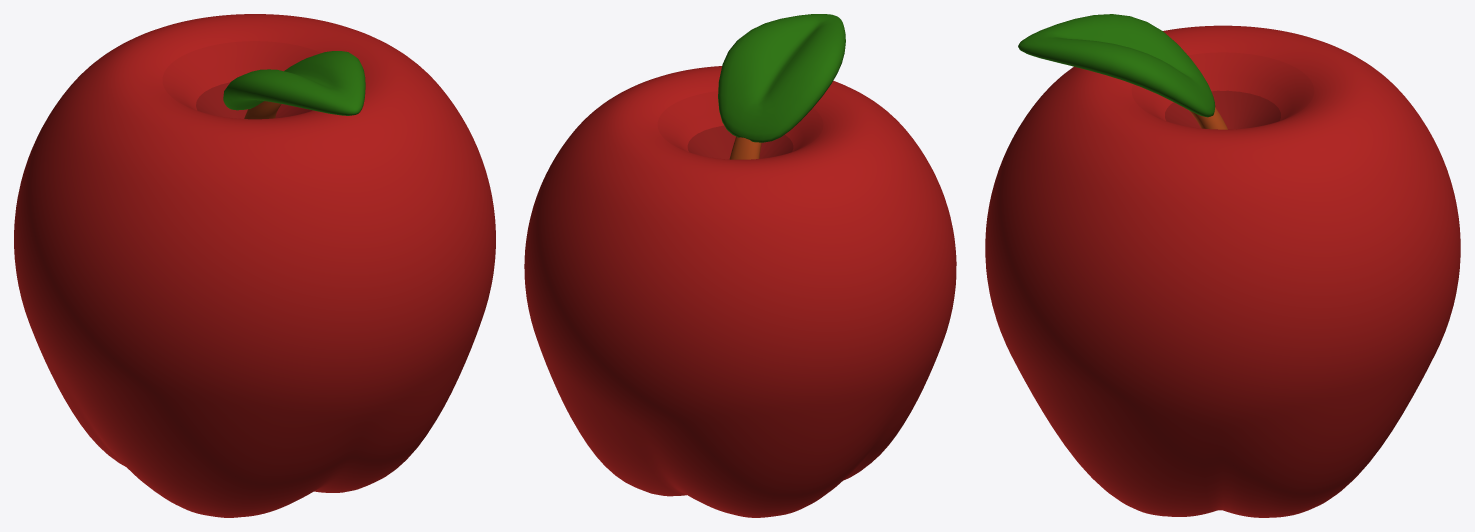
Rendered from apple.fbx.
The picture shows the model from 3 angles, left to right: view 1: azimuth 30°, elevation 25°; view 2: azimuth 150°, elevation 25°; view 3: azimuth 270°, elevation 25°; orthographic projection. The views are drawn at different scales.
Parts seen in each view (by area): view 1: apple; view 2: apple; view 3: apple.
Boxes of the visible parts, <box> form: apple: <box>14,14,495,517</box>; apple: <box>524,14,956,517</box>; apple: <box>985,14,1460,517</box>.
Size of the model in its own units: 94.92 by 98.75 by 94.92.
